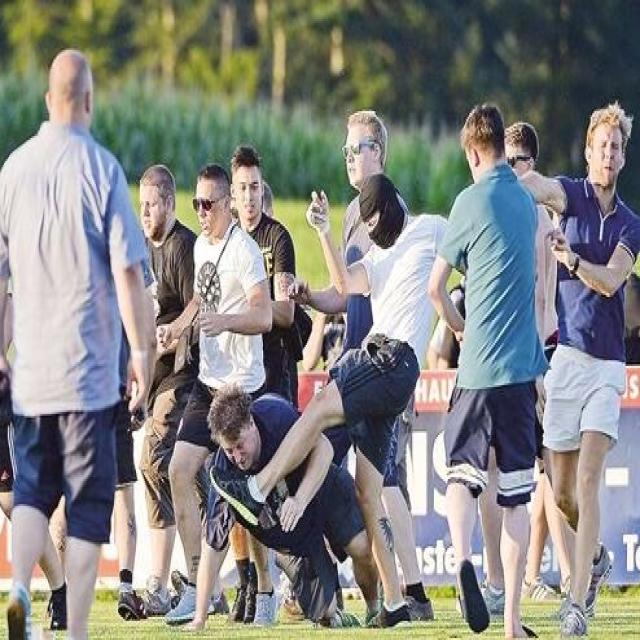fight: (204, 366, 408, 640)
nofight: (5, 45, 141, 636), (440, 105, 550, 640), (180, 163, 276, 400)
